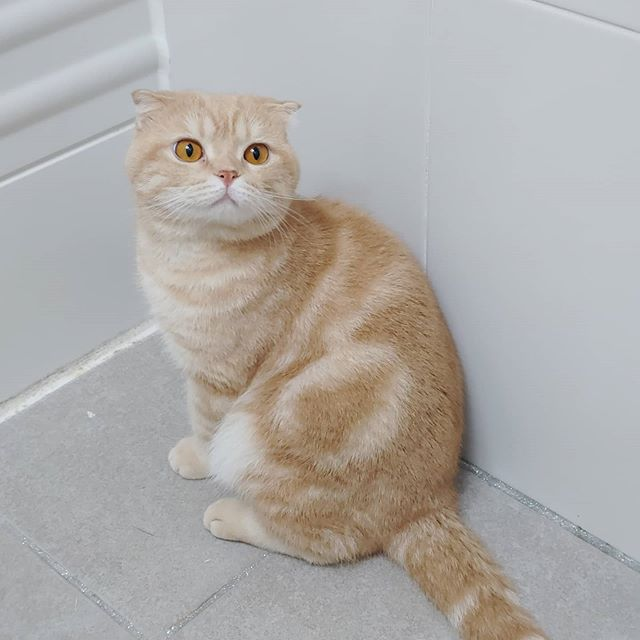cat: (129, 80, 308, 259)
